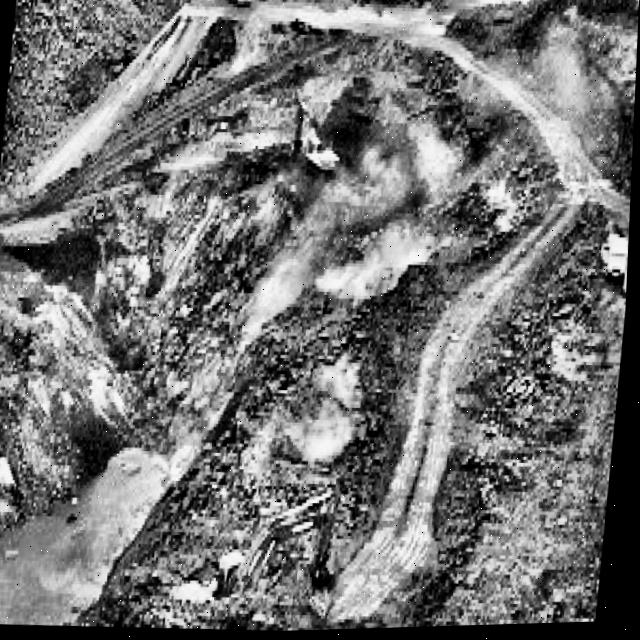excavator: (287, 86, 347, 187)
light_vehicle: (596, 227, 632, 297)
